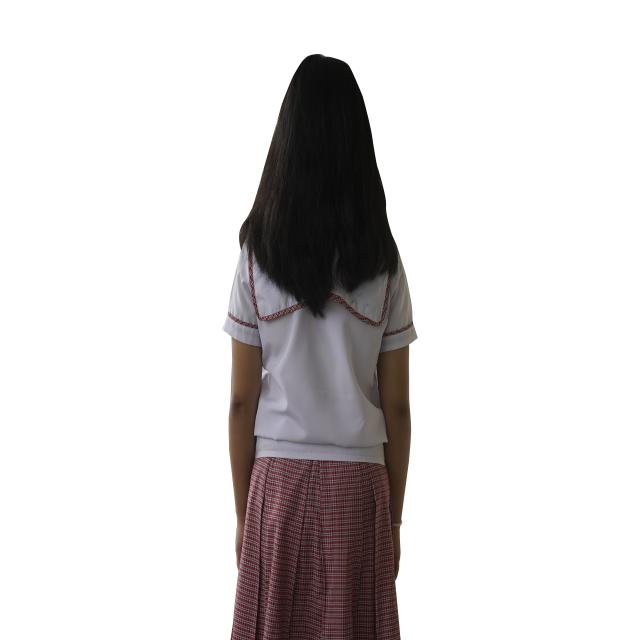pologirl: (223, 248, 417, 463)
skirt: (231, 457, 400, 640)
